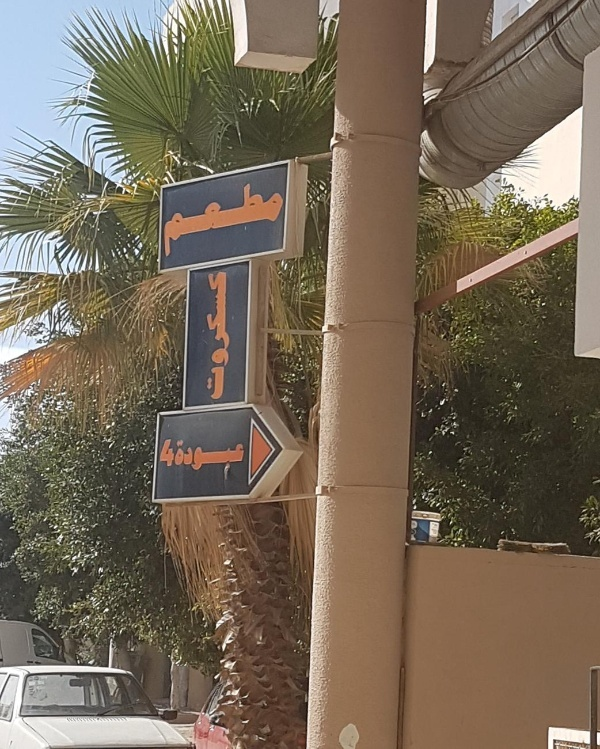text: (209, 270, 224, 404), (177, 176, 192, 260), (193, 176, 208, 260), (209, 176, 224, 260), (225, 176, 240, 260), (241, 176, 256, 260), (257, 176, 272, 260), (273, 176, 288, 260), (163, 176, 176, 260), (225, 270, 233, 404), (177, 438, 192, 472), (193, 438, 208, 472), (209, 438, 224, 472), (225, 438, 240, 472), (162, 438, 176, 468), (206, 270, 208, 404), (241, 438, 245, 472), (173, 438, 176, 472)
